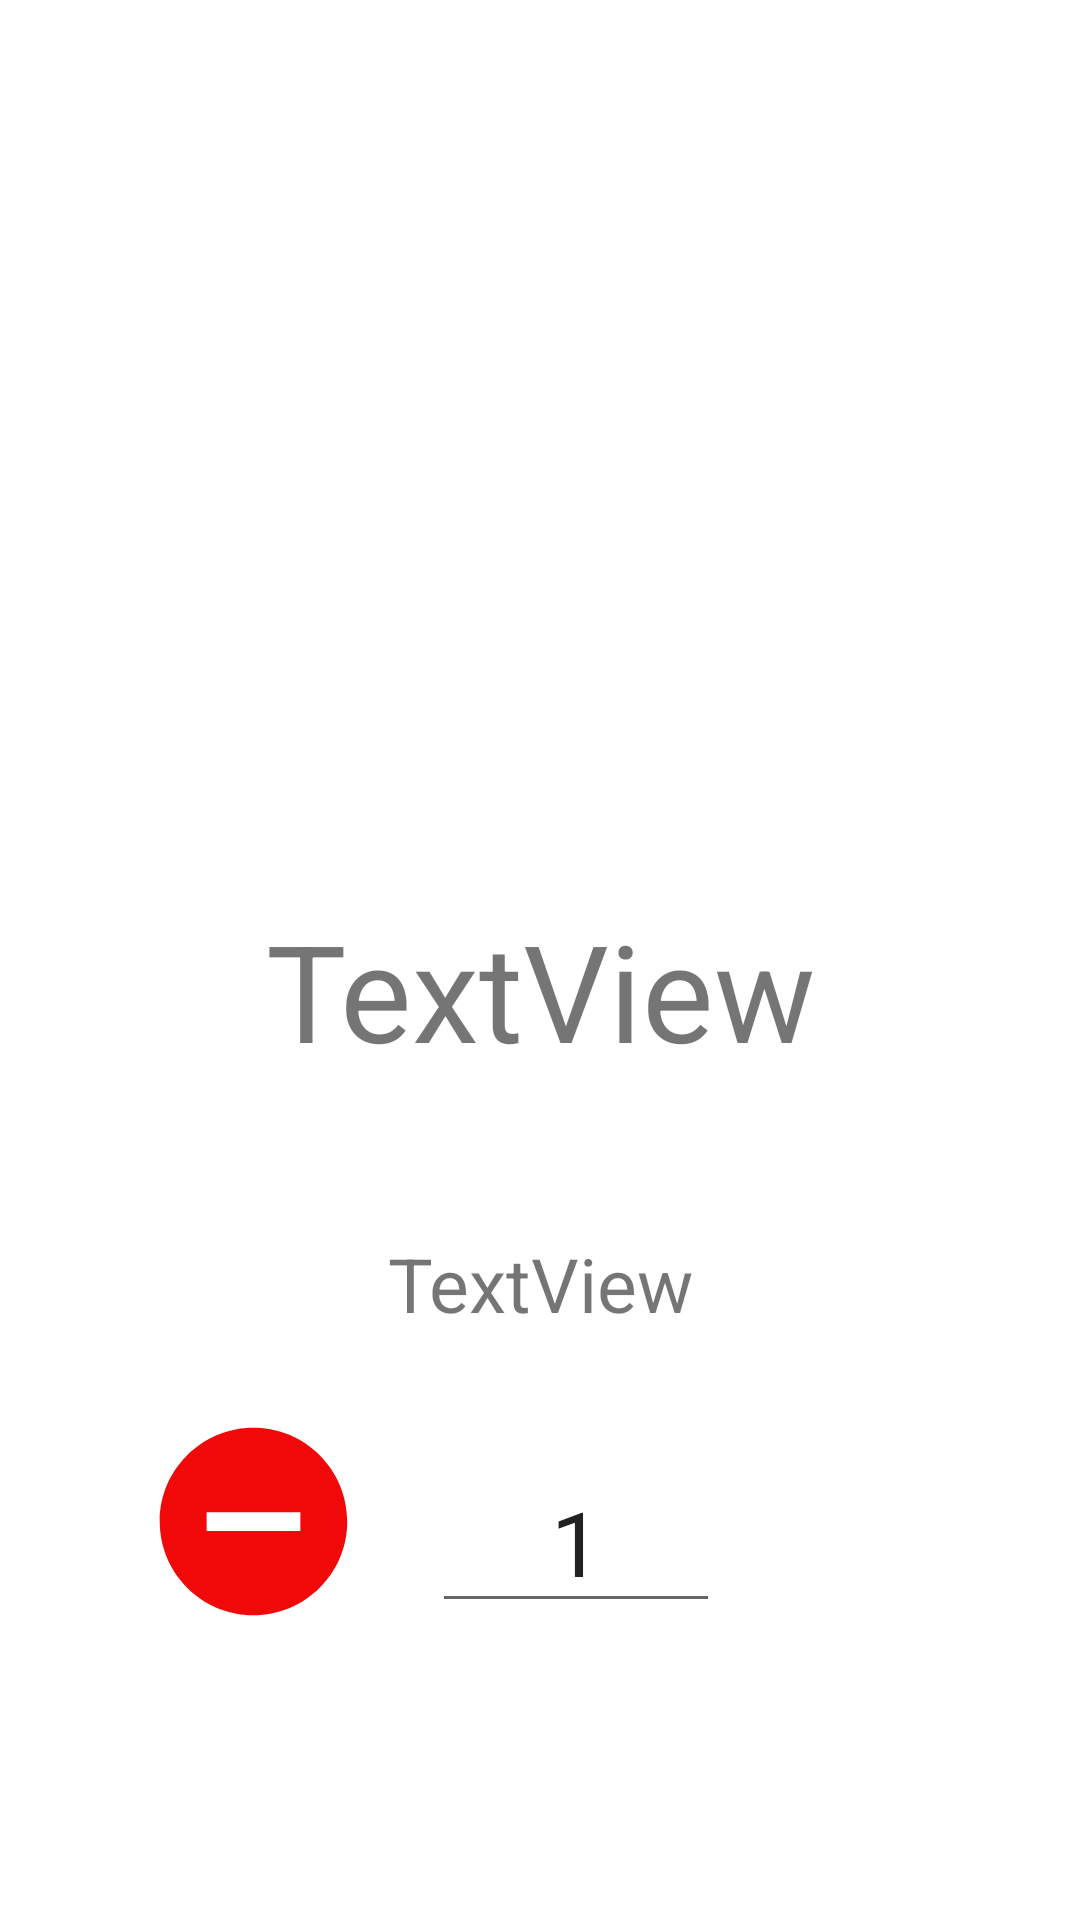

Screen size 1080 x 1920. Icon name, then its box in pixels as (x1, y1, x2, y2):
substract circle: (159, 1427, 348, 1616)
